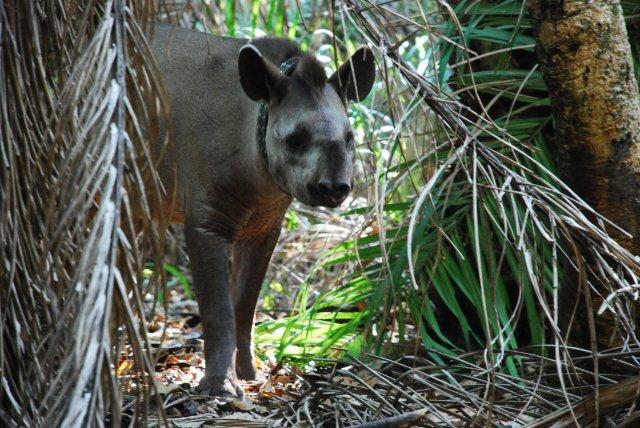Anta: (171, 14, 384, 401)
